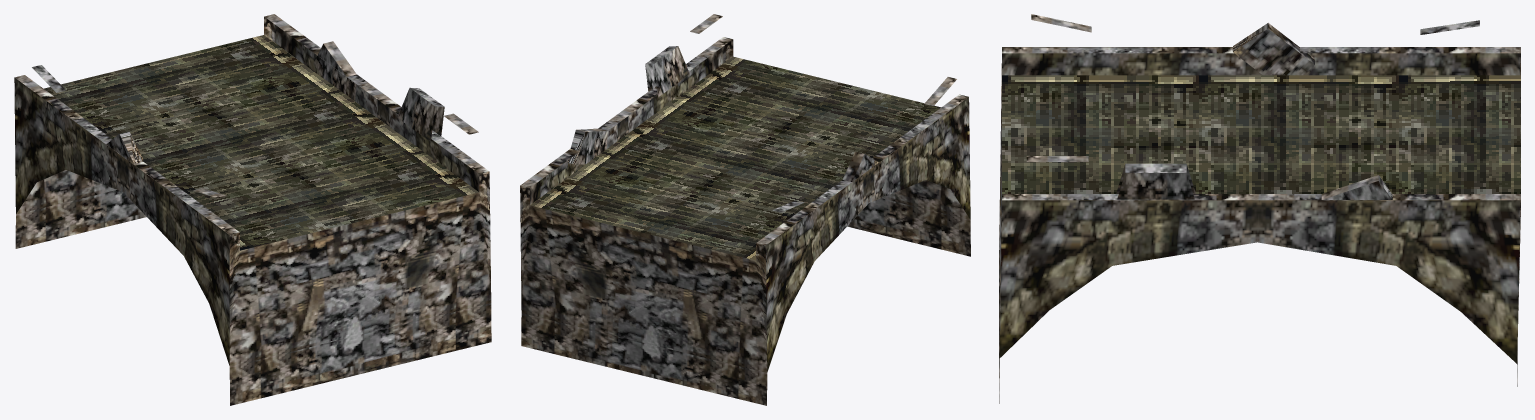
File: Civilian - Civilian Building - Fortress Wall Large Arch - CMWalAkml3_E.glb
3 renders of one model, left to right at view 1: azimuth 30°, elevation 25°; view 2: azimuth 150°, elevation 25°; view 3: azimuth 270°, elevation 25°, orthographic. The views are drawn at different scales.
Parts seen in each view (by area): view 1: CMWALAKML3_E; view 2: CMWALAKML3_E; view 3: CMWALAKML3_E.
Boxes of the visible parts, x1,y1,x2,y2 form: CMWALAKML3_E: [14, 14, 491, 405]; CMWALAKML3_E: [520, 14, 970, 405]; CMWALAKML3_E: [999, 14, 1520, 403].
Bounding box in the file's own units: 60.26 × 43.64 × 84.55.
Materials: 5 (5 with a texture image).
